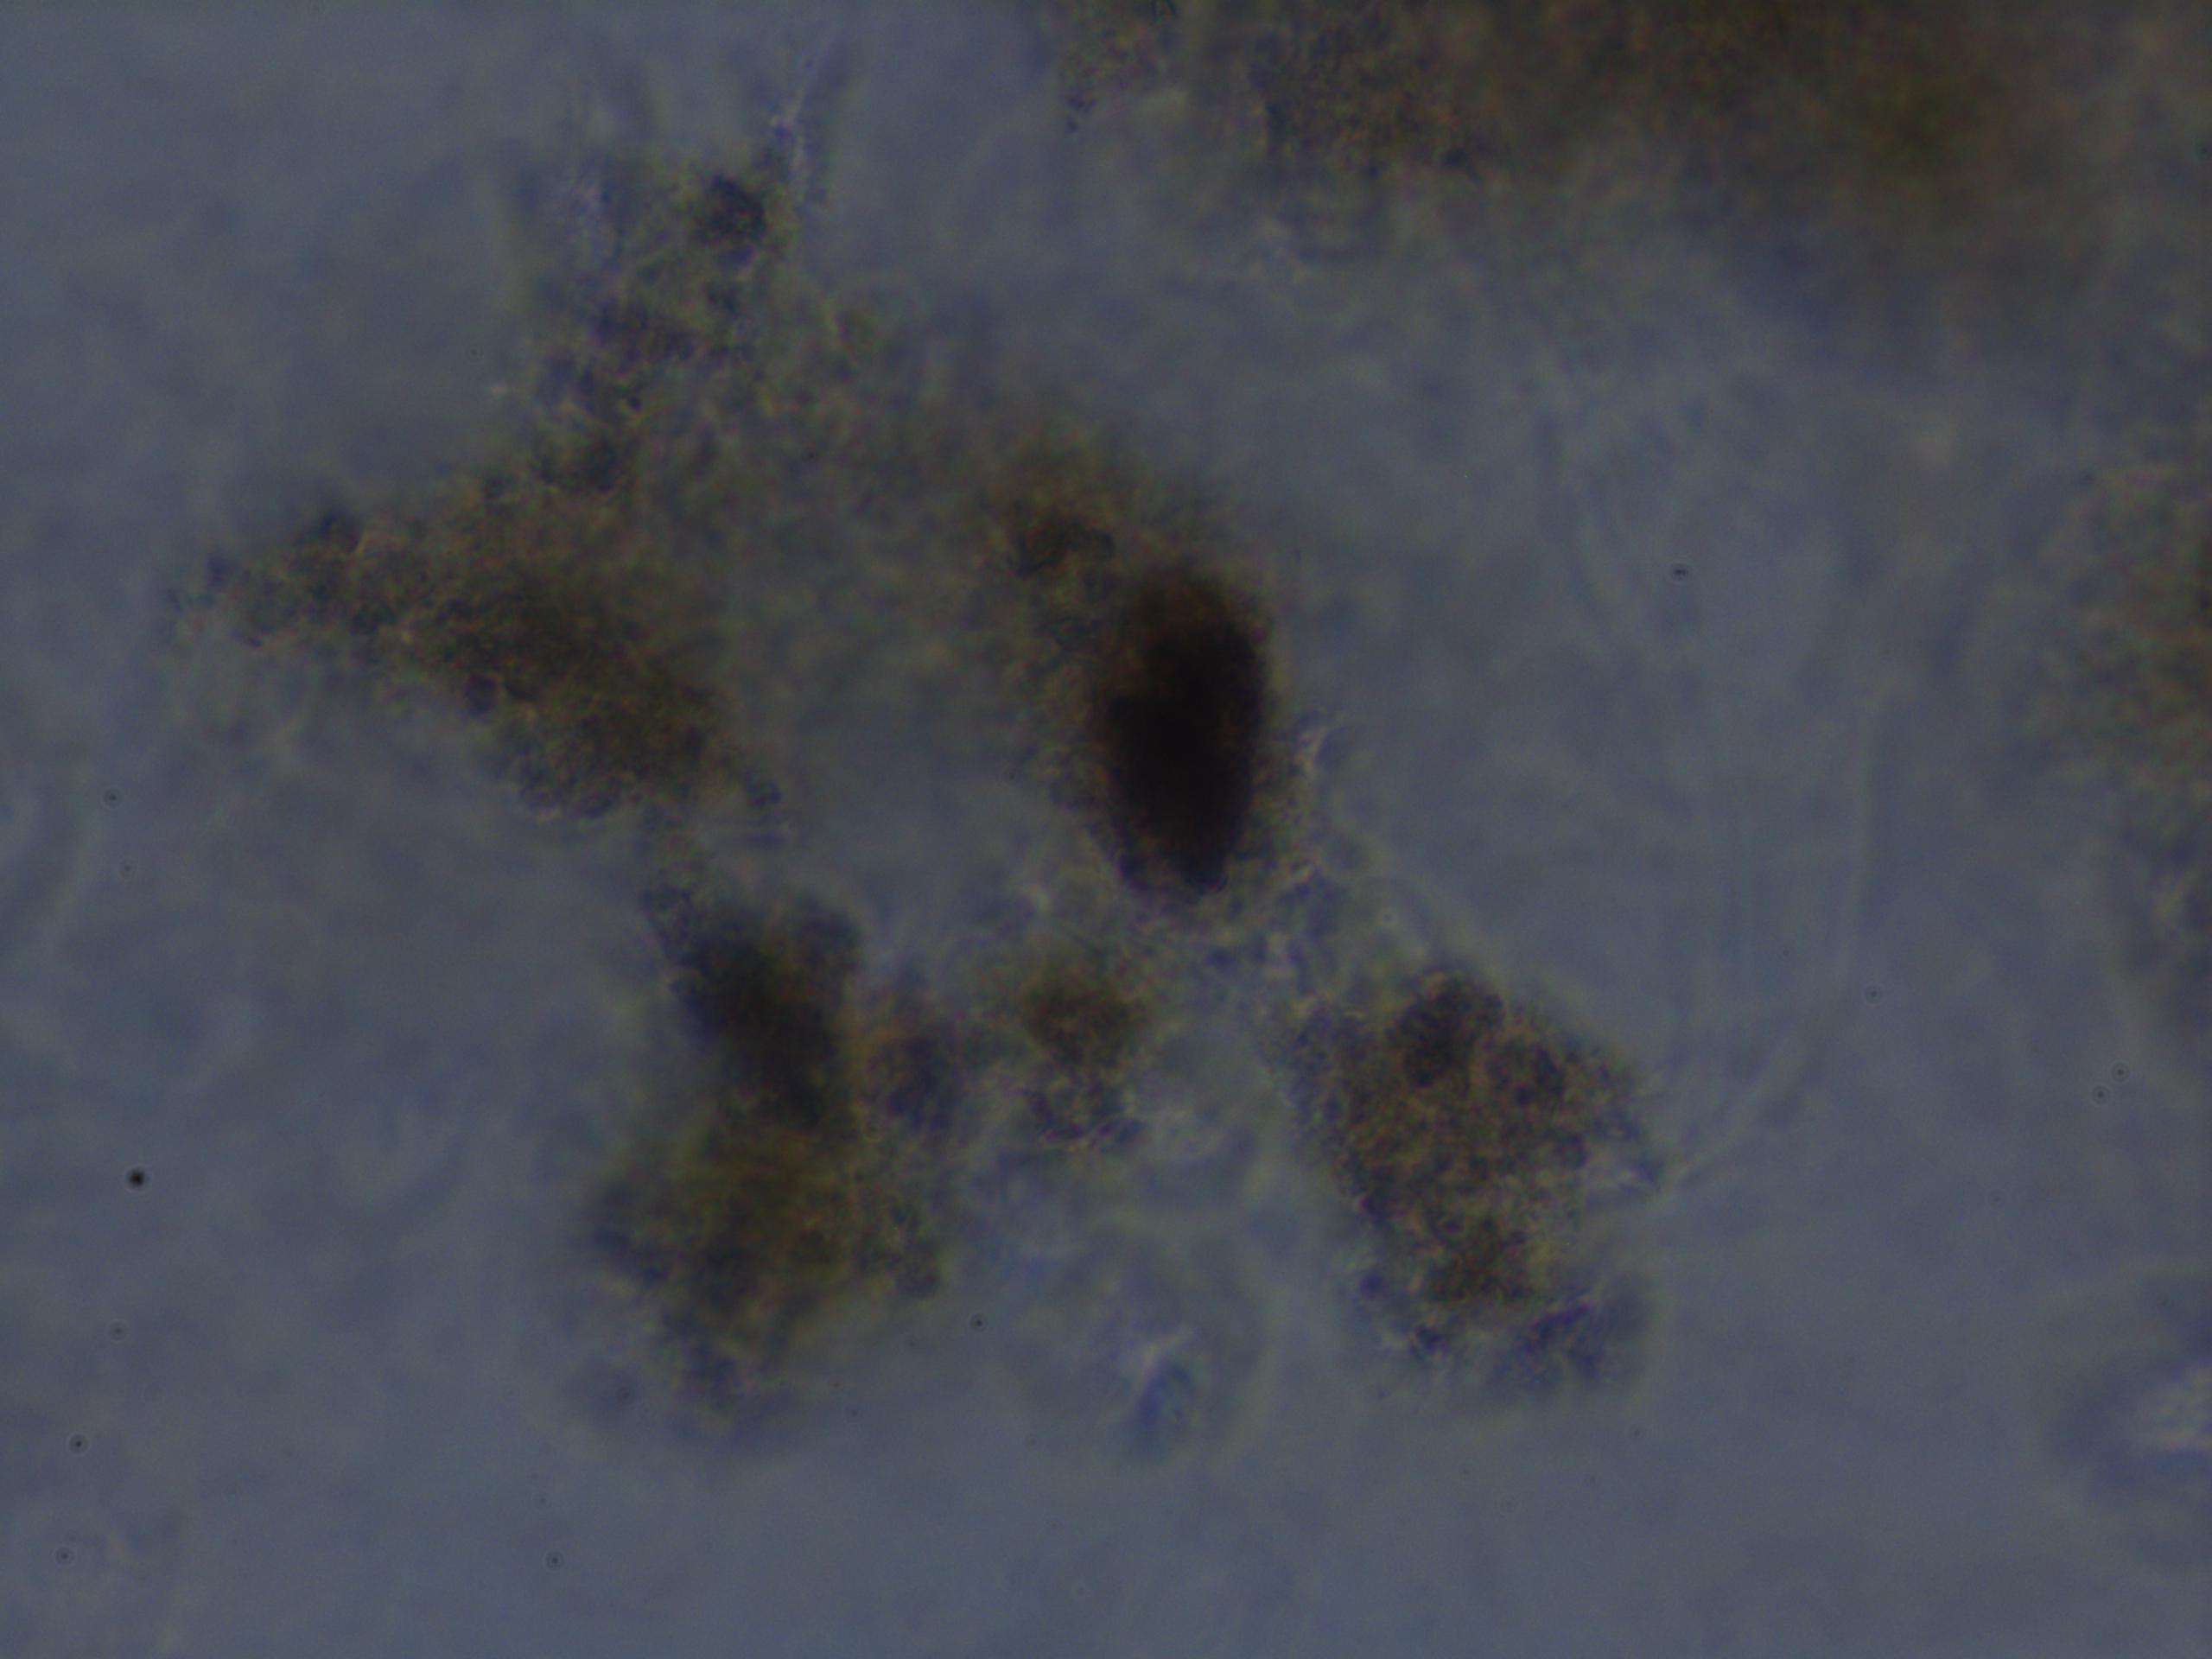open_floc: (206, 122, 1662, 1410)
